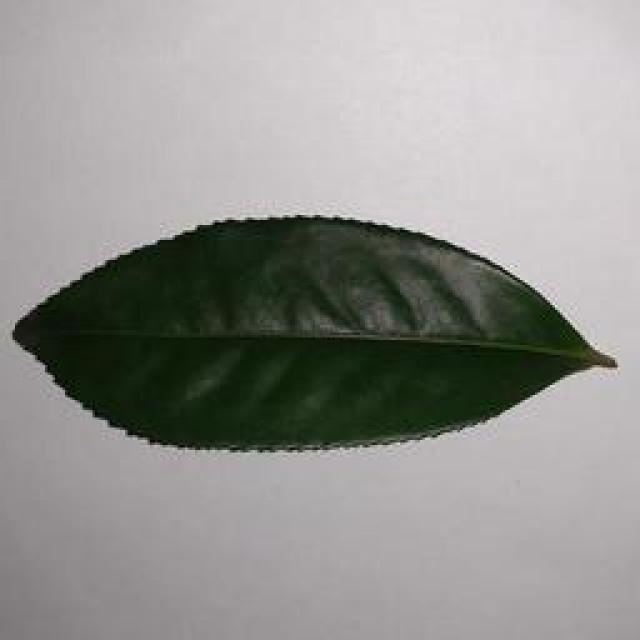Healthy: (2, 204, 626, 498)
